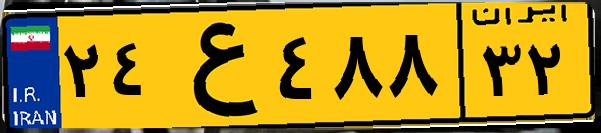2: (57, 26, 110, 100), (525, 38, 570, 115)
3: (475, 38, 525, 113)
4: (270, 28, 330, 110), (110, 28, 158, 98)
8: (385, 28, 445, 110), (330, 28, 385, 110)
ع: (158, 12, 270, 120)
